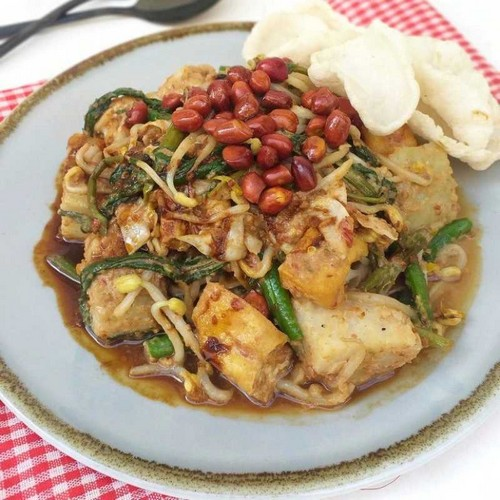tipat cantok: (67, 51, 459, 407)
